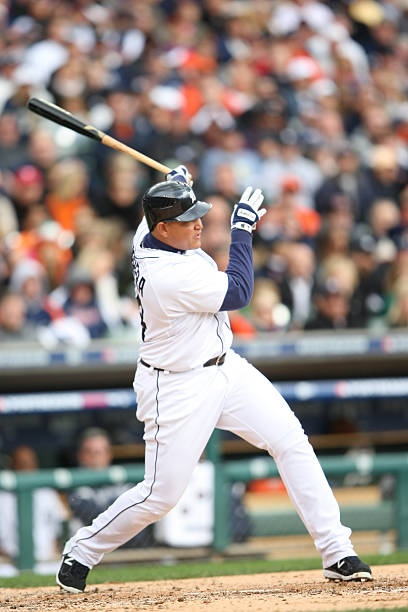bita: (27, 92, 172, 185)
